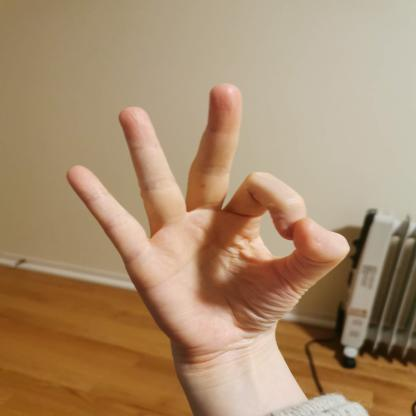nine: (57, 77, 359, 360)
